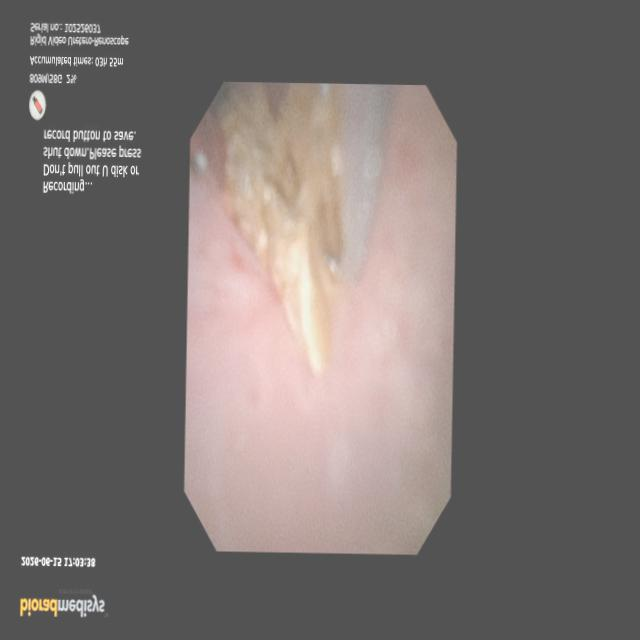stone-new: (217, 84, 344, 373)
